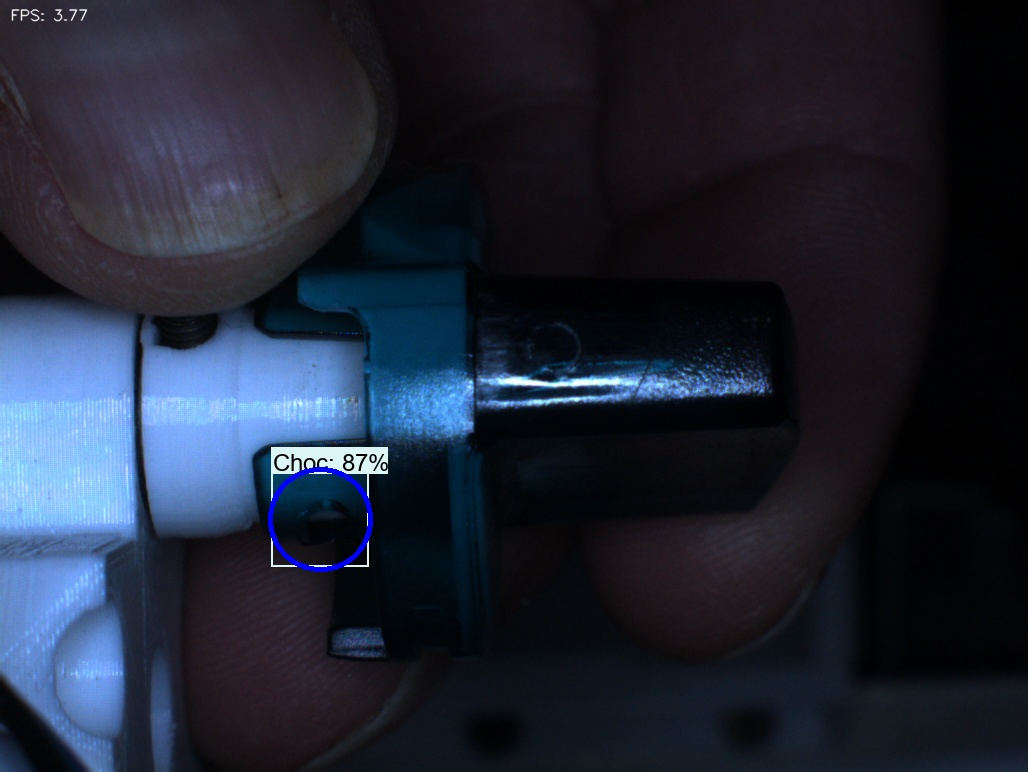DentOk: (339, 168, 402, 250)
